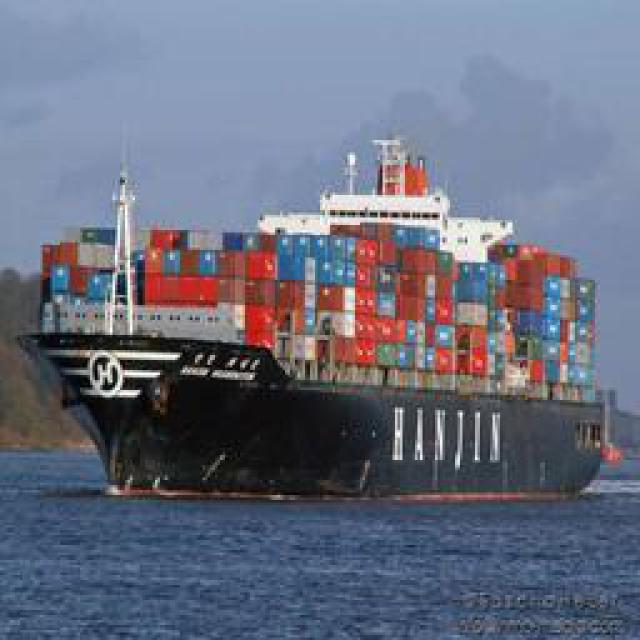Ship: (25, 119, 615, 474)
